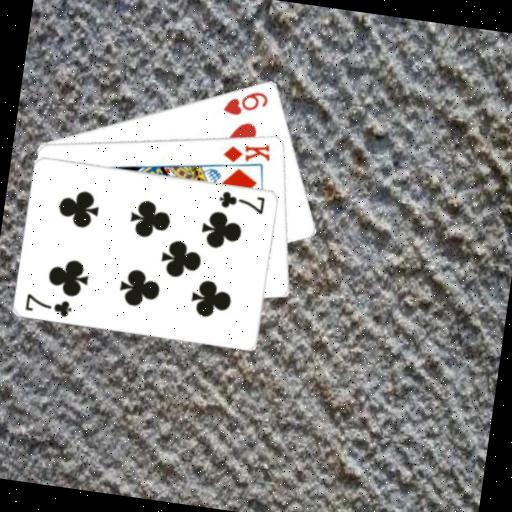6H: (220, 83, 272, 121)
7C: (215, 187, 268, 217), (22, 290, 75, 320)
KD: (219, 135, 274, 169)
